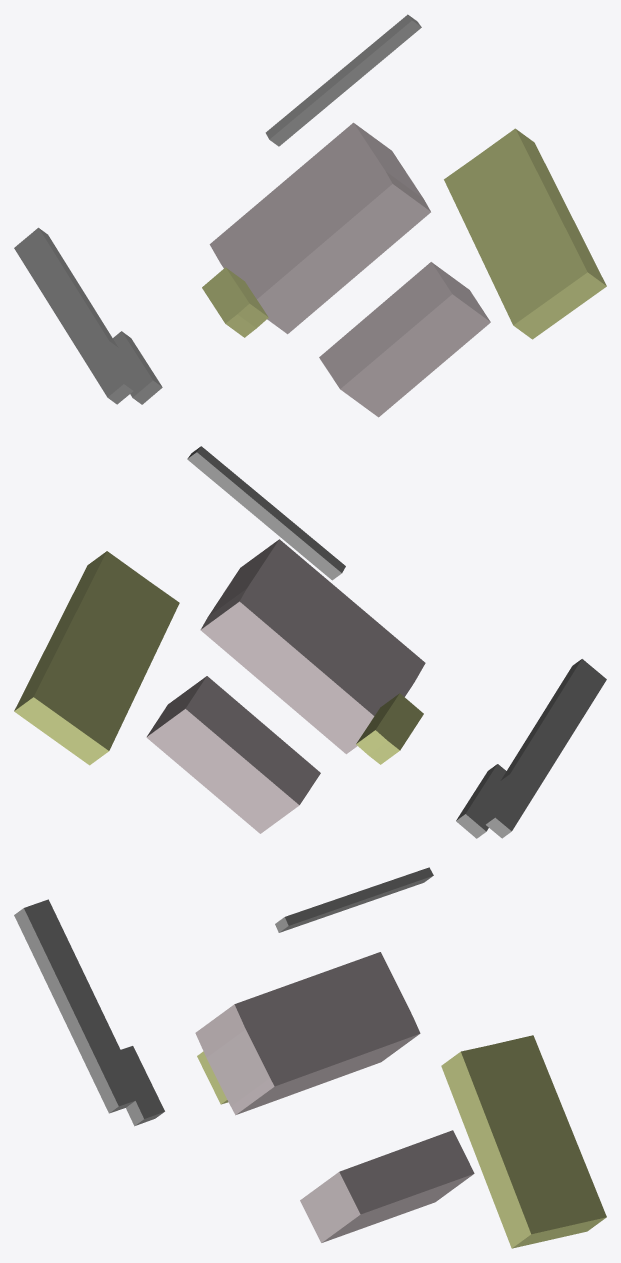
3 renders of one model, top to bottom at view 1: azimuth 30°, elevation 25°; view 2: azimuth 150°, elevation 25°; view 3: azimuth 330°, elevation 25°, orthographic.
Visible parts, largest first — view 1: 0_1_2_0_0_2_0_1; view 2: 0_1_2_0_0_2_0_1; view 3: 0_1_2_0_0_2_0_1.
Boxes of the visible parts, x1,y1,x2,y2 form: 0_1_2_0_0_2_0_1: (14,14,606,417); 0_1_2_0_0_2_0_1: (14,446,606,838); 0_1_2_0_0_2_0_1: (14,867,606,1248).
Size of the model in its own units: 103 by 61.48 by 13.
